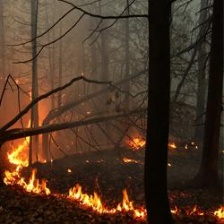fire: (8, 173, 146, 220), (7, 124, 41, 167), (171, 208, 221, 224), (125, 131, 144, 152)
